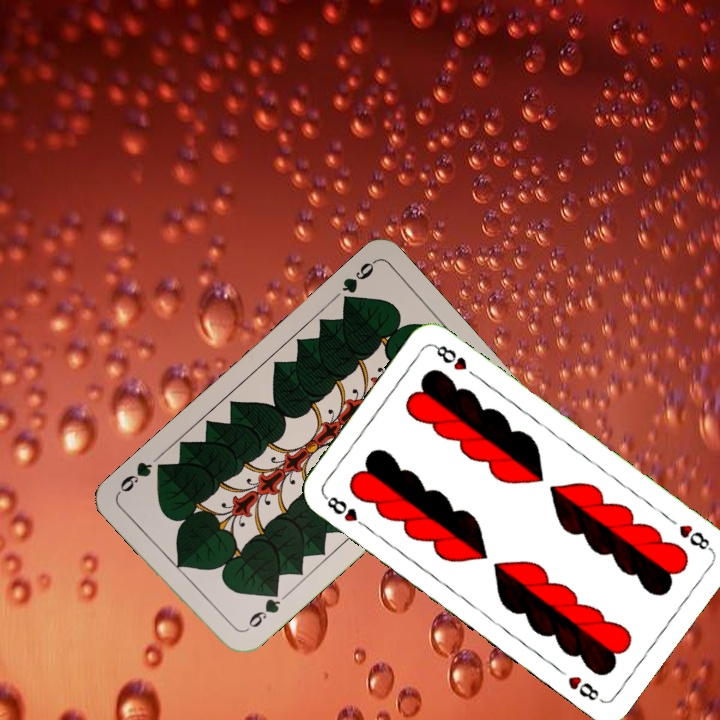G9: (240, 585, 284, 635), (337, 257, 378, 309)
H8: (320, 491, 371, 532), (675, 520, 715, 554)
